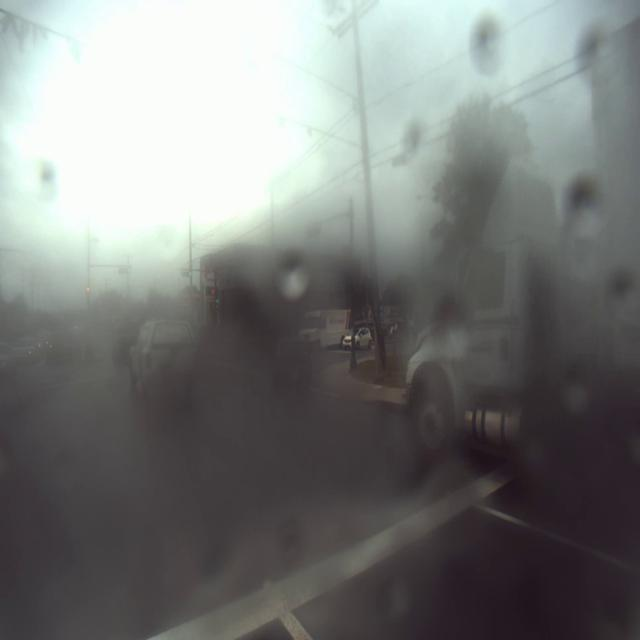car: (125, 317, 200, 397)
